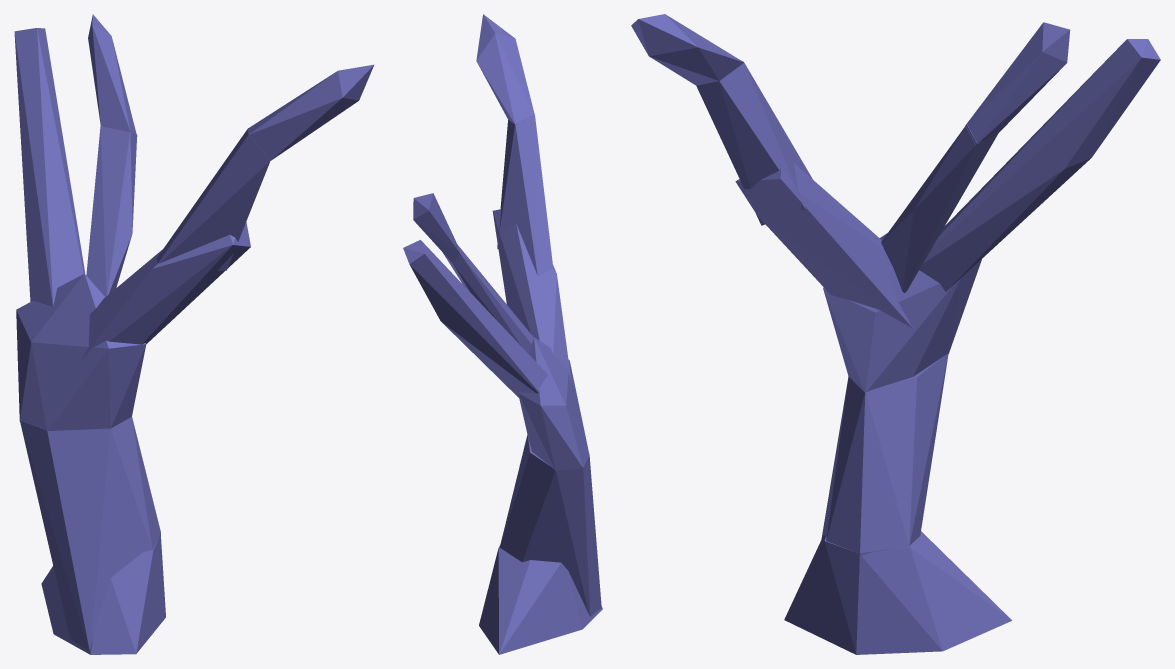
Rendered from Tree_01_Collider_01.FBX.
3 views of the same model, side by side, from view 1: azimuth 30°, elevation 25°; view 2: azimuth 150°, elevation 25°; view 3: azimuth 270°, elevation 25° (orthographic). The views are drawn at different scales.
Visible parts, largest first — view 1: COLLIDER2, COLLIDER3, COLLIDER5, COLLIDER4, COLLIDER1, COLLIDER7, COLLIDER6, COLLIDER9, COLLIDER8; view 2: COLLIDER2, COLLIDER1, COLLIDER5, COLLIDER3, COLLIDER6, COLLIDER4, COLLIDER9, COLLIDER7, COLLIDER8; view 3: COLLIDER1, COLLIDER2, COLLIDER5, COLLIDER4, COLLIDER3, COLLIDER6, COLLIDER7, COLLIDER8, COLLIDER9.
Part boxes in pixels (x1,y1,x2,y2): COLLIDER2: (19, 417, 160, 651); COLLIDER3: (16, 273, 146, 430); COLLIDER5: (14, 28, 85, 306); COLLIDER4: (81, 222, 250, 359); COLLIDER1: (41, 534, 165, 654); COLLIDER7: (86, 126, 137, 296); COLLIDER6: (156, 128, 270, 270); COLLIDER9: (247, 64, 373, 160); COLLIDER8: (88, 14, 137, 136); COLLIDER2: (499, 435, 601, 616); COLLIDER1: (479, 544, 602, 654); COLLIDER5: (403, 240, 547, 397); COLLIDER3: (518, 337, 589, 471); COLLIDER6: (497, 114, 553, 275); COLLIDER4: (492, 209, 571, 383); COLLIDER9: (476, 14, 534, 124); COLLIDER7: (443, 244, 533, 353); COLLIDER8: (413, 193, 460, 263); COLLIDER1: (784, 531, 1011, 654); COLLIDER2: (821, 354, 948, 555); COLLIDER5: (919, 39, 1160, 291); COLLIDER4: (735, 163, 912, 328); COLLIDER3: (823, 233, 981, 392); COLLIDER6: (696, 60, 812, 225); COLLIDER7: (881, 124, 998, 292); COLLIDER8: (965, 22, 1070, 144); COLLIDER9: (631, 14, 743, 85).
Bounding box in the file's own units: 135 × 322 × 220.
